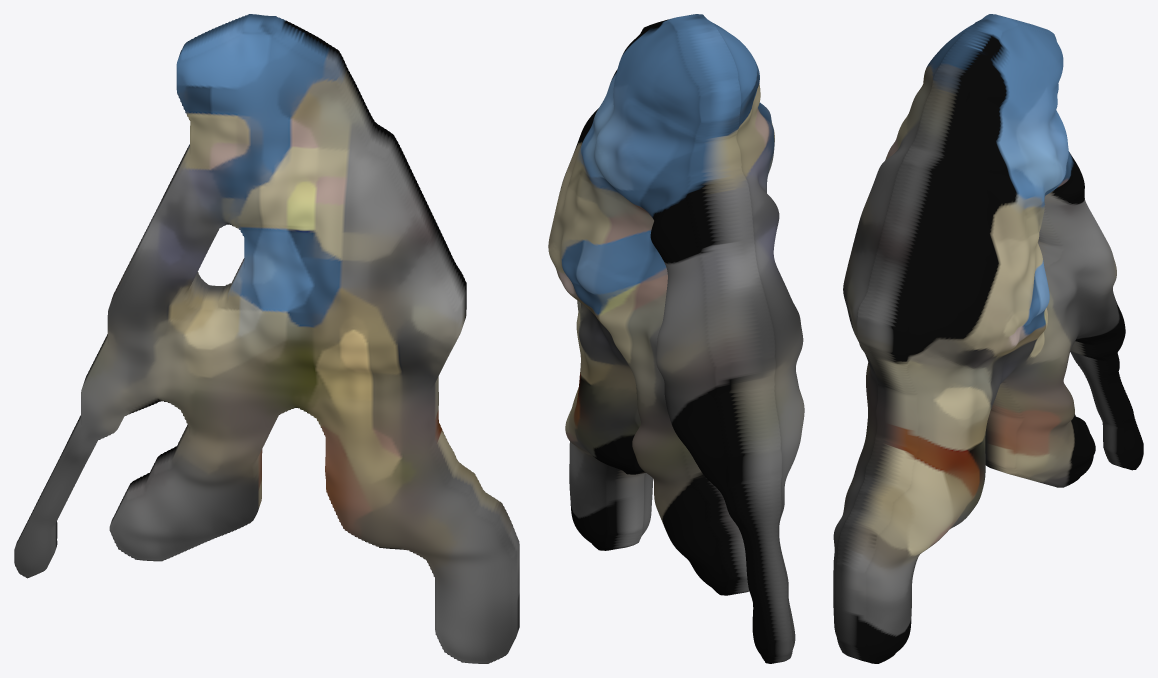
Rendered from sniper.glb.
3 views of the same model, side by side, from view 1: azimuth 30°, elevation 25°; view 2: azimuth 150°, elevation 25°; view 3: azimuth 270°, elevation 25° (orthographic). The views are drawn at different scales.
Parts seen in each view (by area): view 1: sniper; view 2: sniper; view 3: sniper.
Part boxes in pixels (x1,y1,x2,y2): sniper: [14, 14, 519, 663]; sniper: [548, 14, 804, 663]; sniper: [833, 14, 1143, 663].
Bounding box in the file's own units: 1.35 × 2.23 × 1.1.
